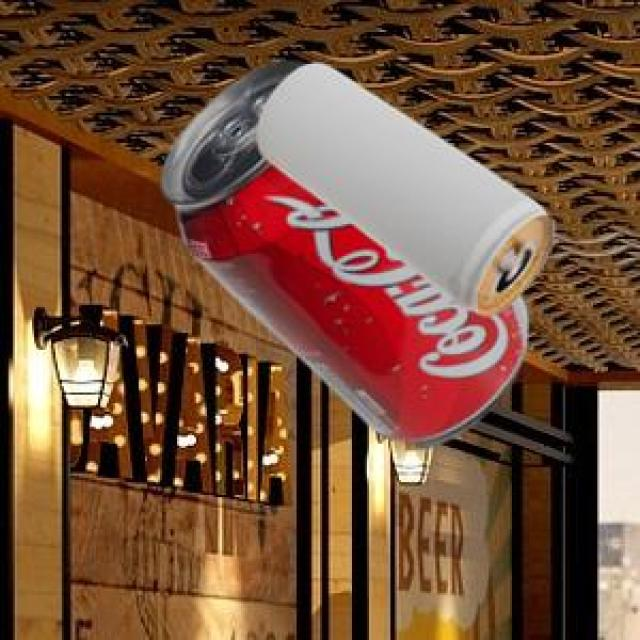logam: (157, 59, 524, 445), (255, 61, 551, 313)
